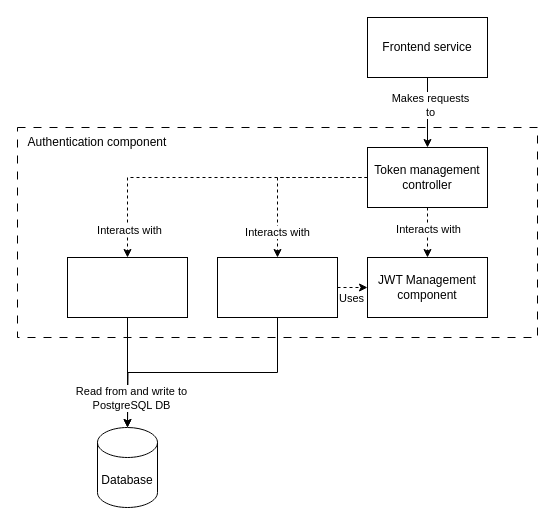
Image size: 555x525. Some labels were removed from this diagram. Here are the shapes that lost their labels. From the top down, the box of each, then its label:
(66, 256, 188, 318): Token Refresh Component
(216, 256, 338, 318): User Management Component
